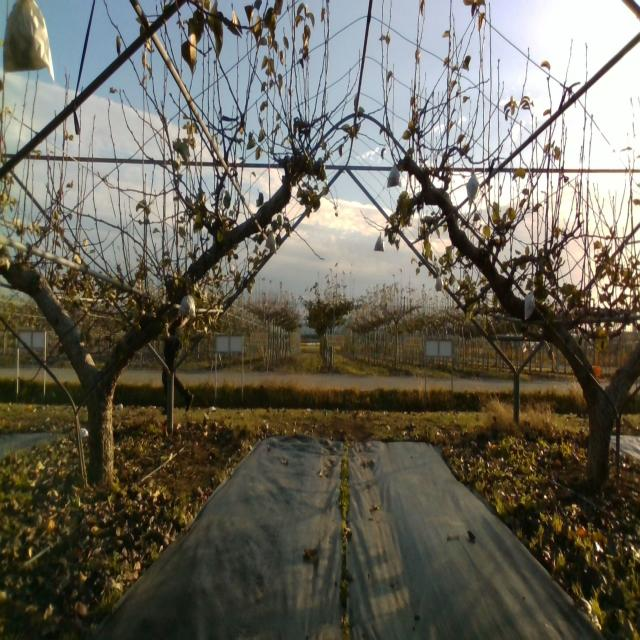pearbags: (3, 0, 59, 82), (178, 287, 196, 319), (523, 286, 536, 320), (467, 171, 478, 205), (387, 164, 402, 188), (265, 231, 278, 255), (373, 231, 384, 251), (434, 274, 444, 293)
